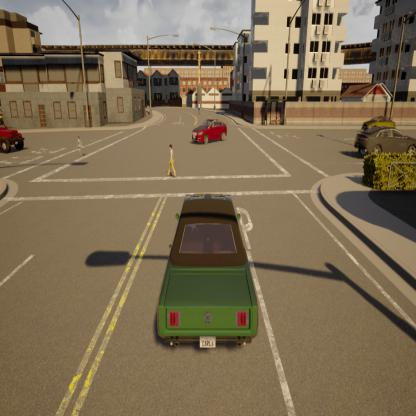Cars: (158, 192, 258, 349), (354, 124, 416, 159), (192, 119, 228, 144), (0, 119, 25, 154), (362, 117, 396, 134), (198, 102, 200, 114)
Pedestrian: (166, 142, 177, 178), (76, 135, 84, 157)
